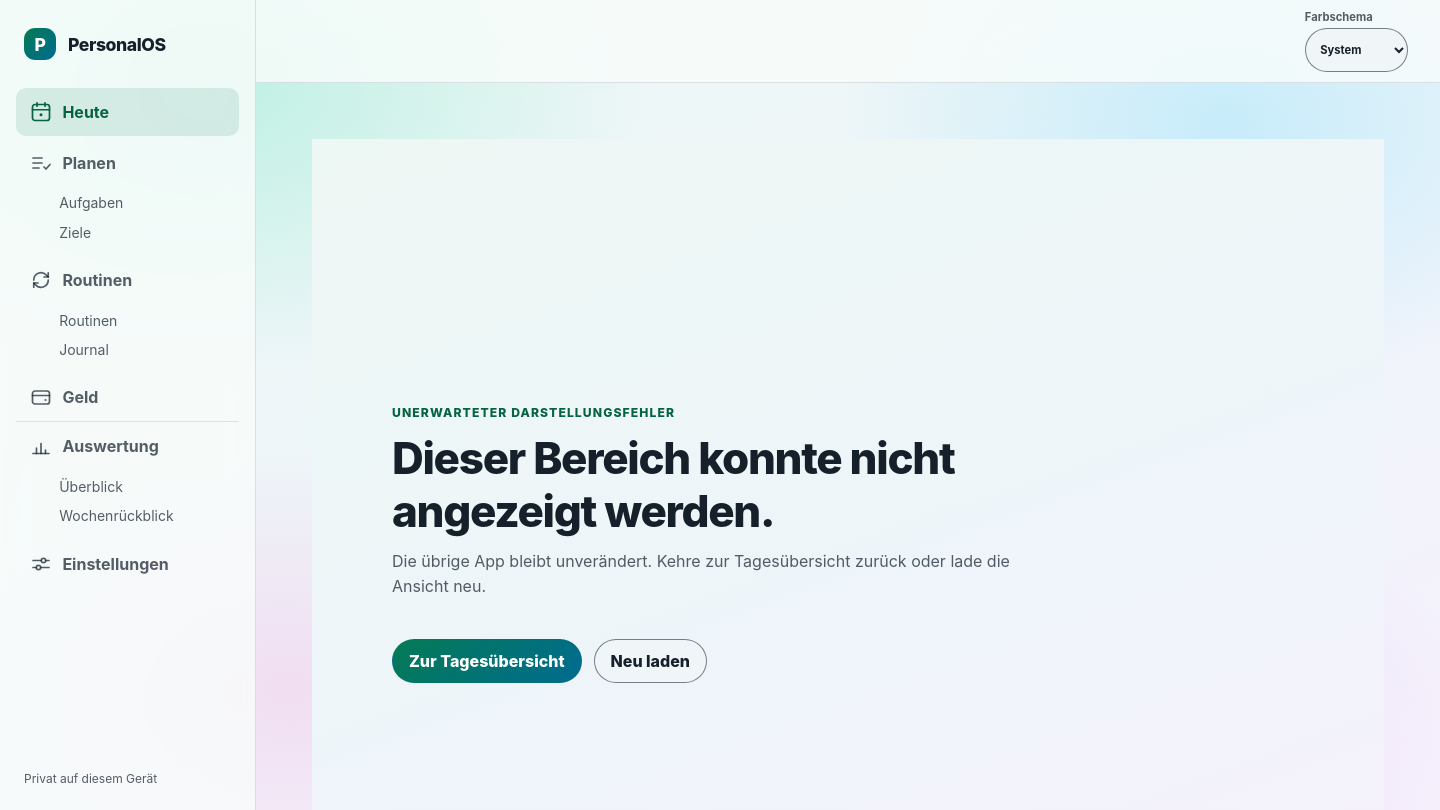
route error isolation › keeps the shell and the other domains usable when one route fails
Expected: the heading "Dieser Bereich konnte nicht angezeigt werden." is shown, [392,432,1001,538]
Click the link "Aufgaben".
click(91, 203)  # box [59,194,123,211]
(page scrolled)
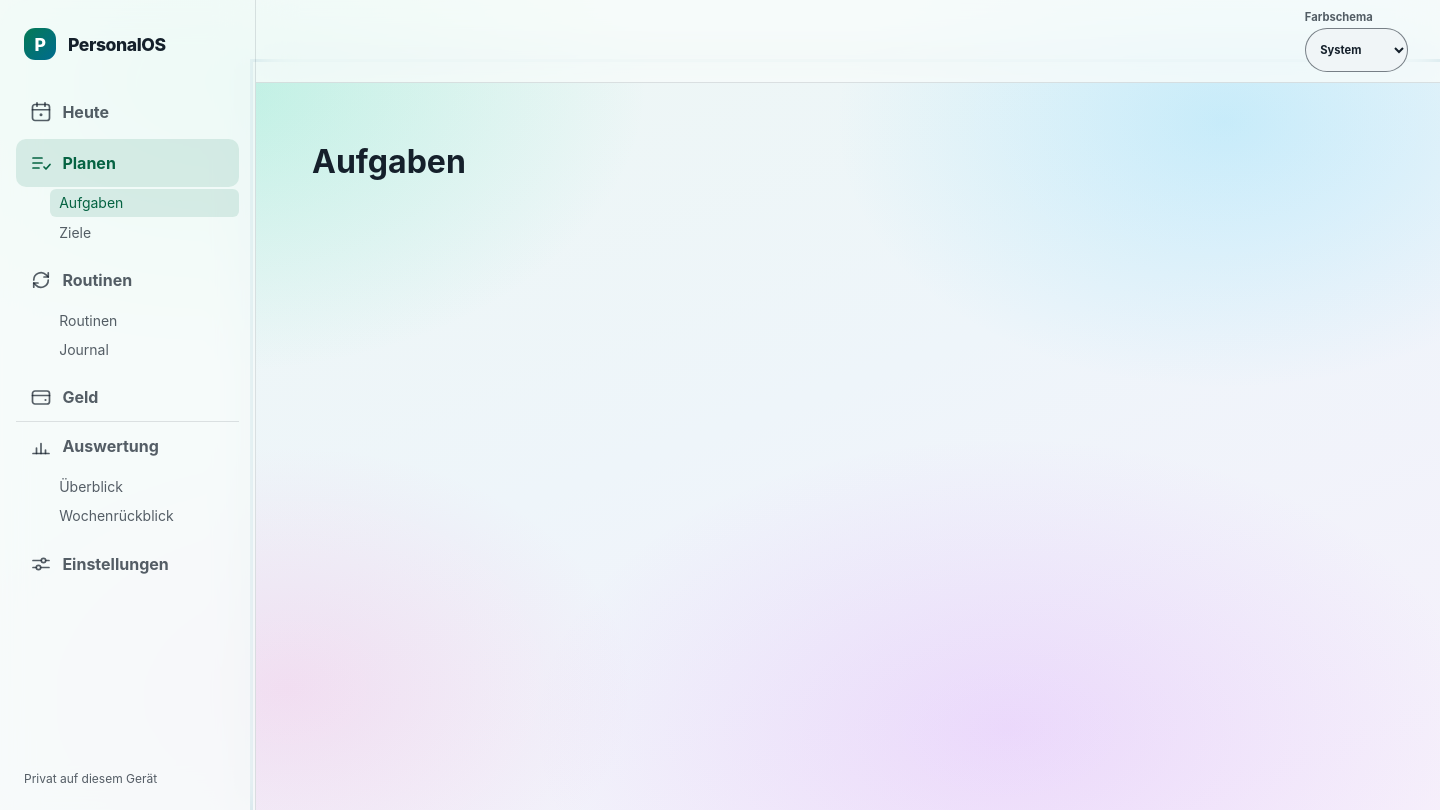
Now the heading "Aufgaben" is shown, box [312,142,466,181]
Now the heading "Dieser Bereich konnte nicht angezeigt werden." is gone
